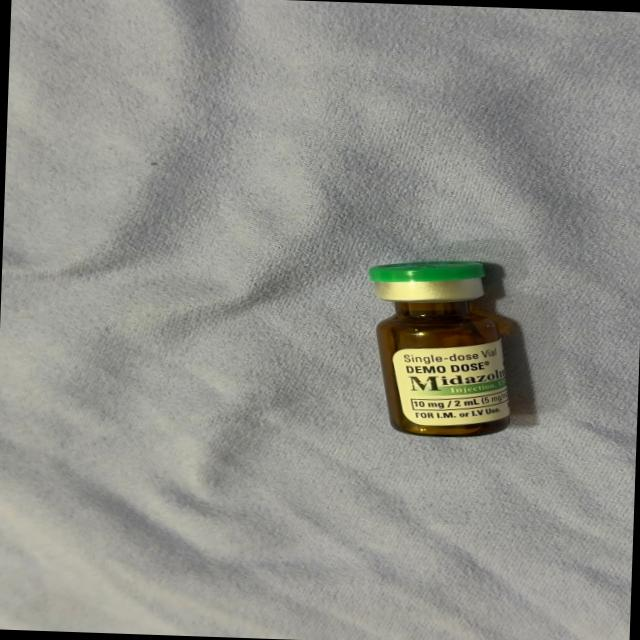midazolm: (364, 258, 515, 434), (364, 260, 514, 434)
